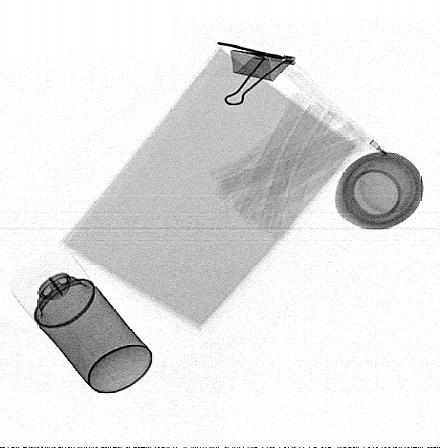Sprayer: (9, 249, 152, 394)
